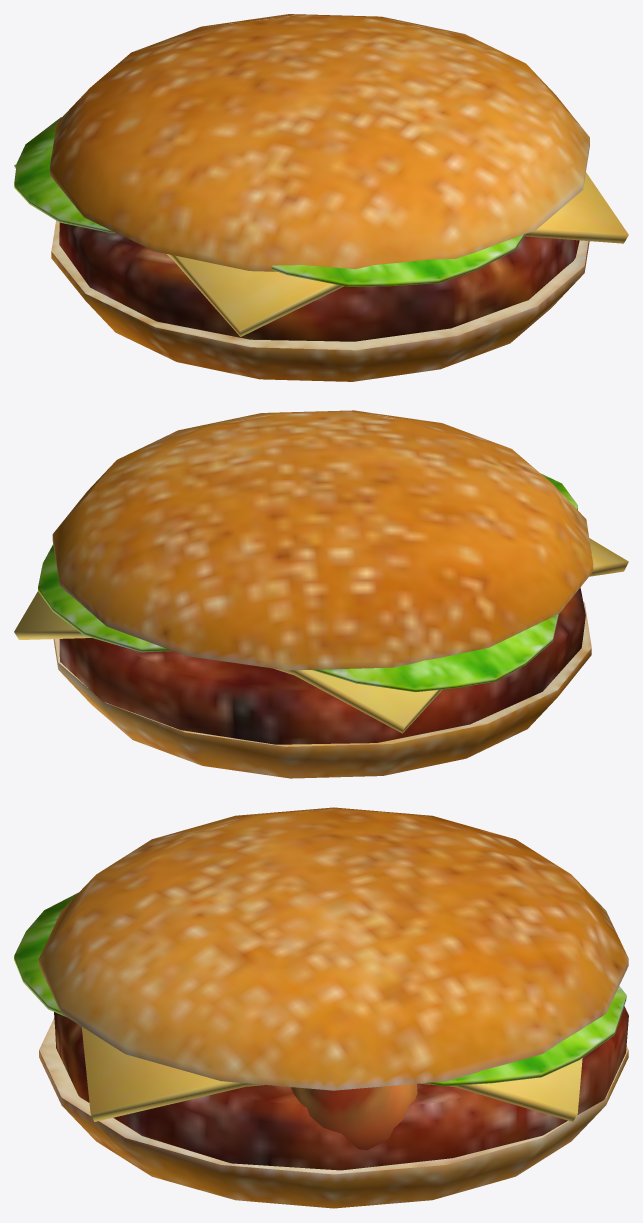
Rendered from human_burger_3.fbx.
3 renders of one model, top to bottom at view 1: azimuth 30°, elevation 25°; view 2: azimuth 150°, elevation 25°; view 3: azimuth 270°, elevation 25°, orthographic. The views are drawn at different scales.
Parts seen in each view (by area): view 1: human_burger_3; view 2: human_burger_3; view 3: human_burger_3.
Part boxes in pixels (<box>): human_burger_3: <box>14,14,628,381</box>; human_burger_3: <box>14,410,628,778</box>; human_burger_3: <box>14,807,628,1208</box>.
Bounding box in the file's own units: 12.29 × 6.28 × 12.5.
